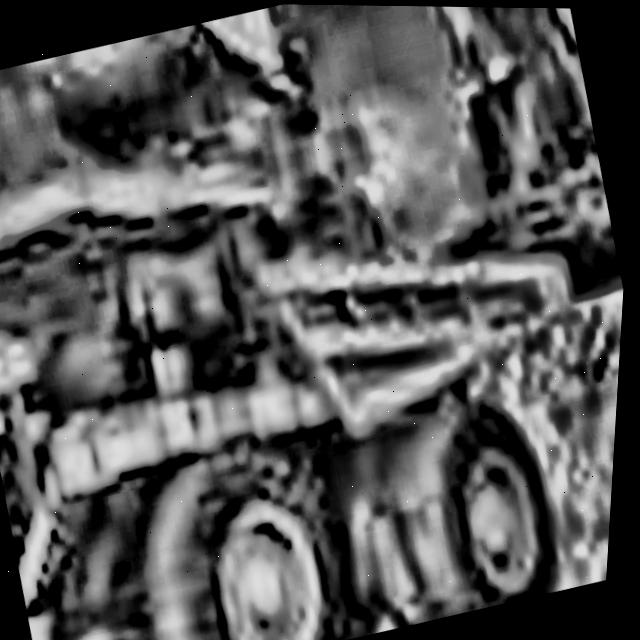dump_truck: (0, 52, 638, 640)
